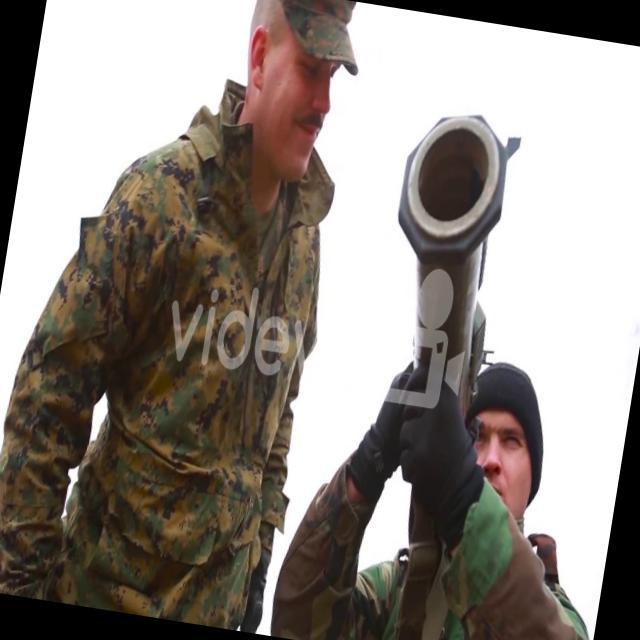rocket: (367, 100, 528, 428)
